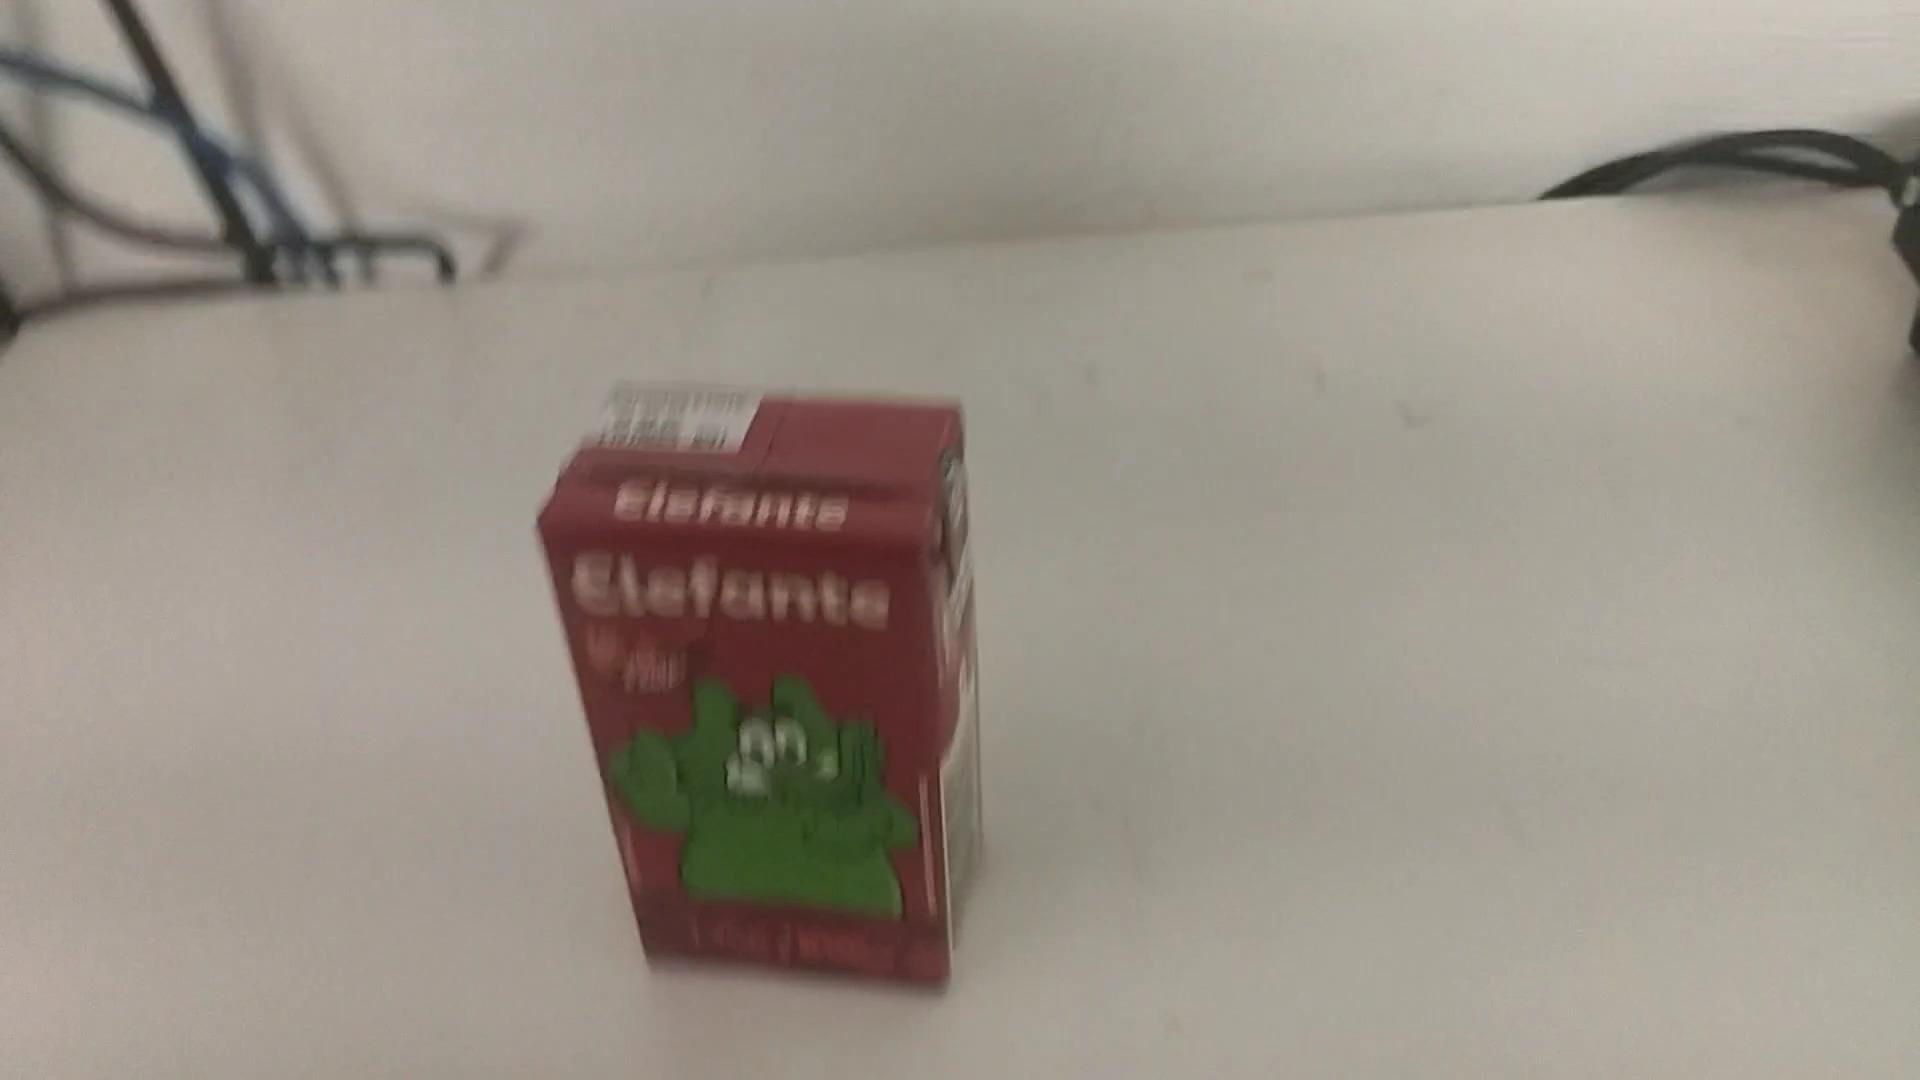tomate: (533, 386, 986, 996)
